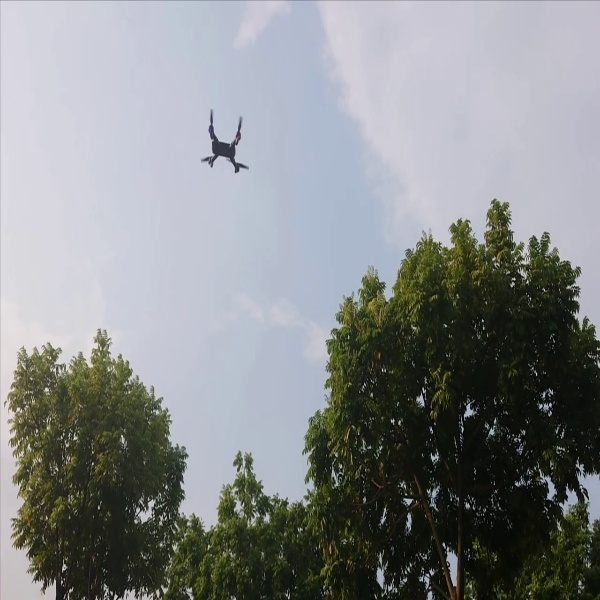drone: (197, 102, 255, 178)
